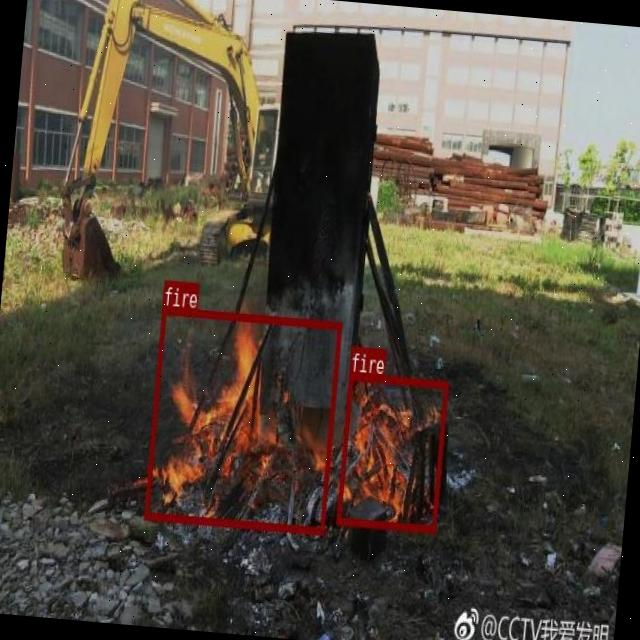fire: (143, 305, 341, 534), (336, 372, 448, 532)
